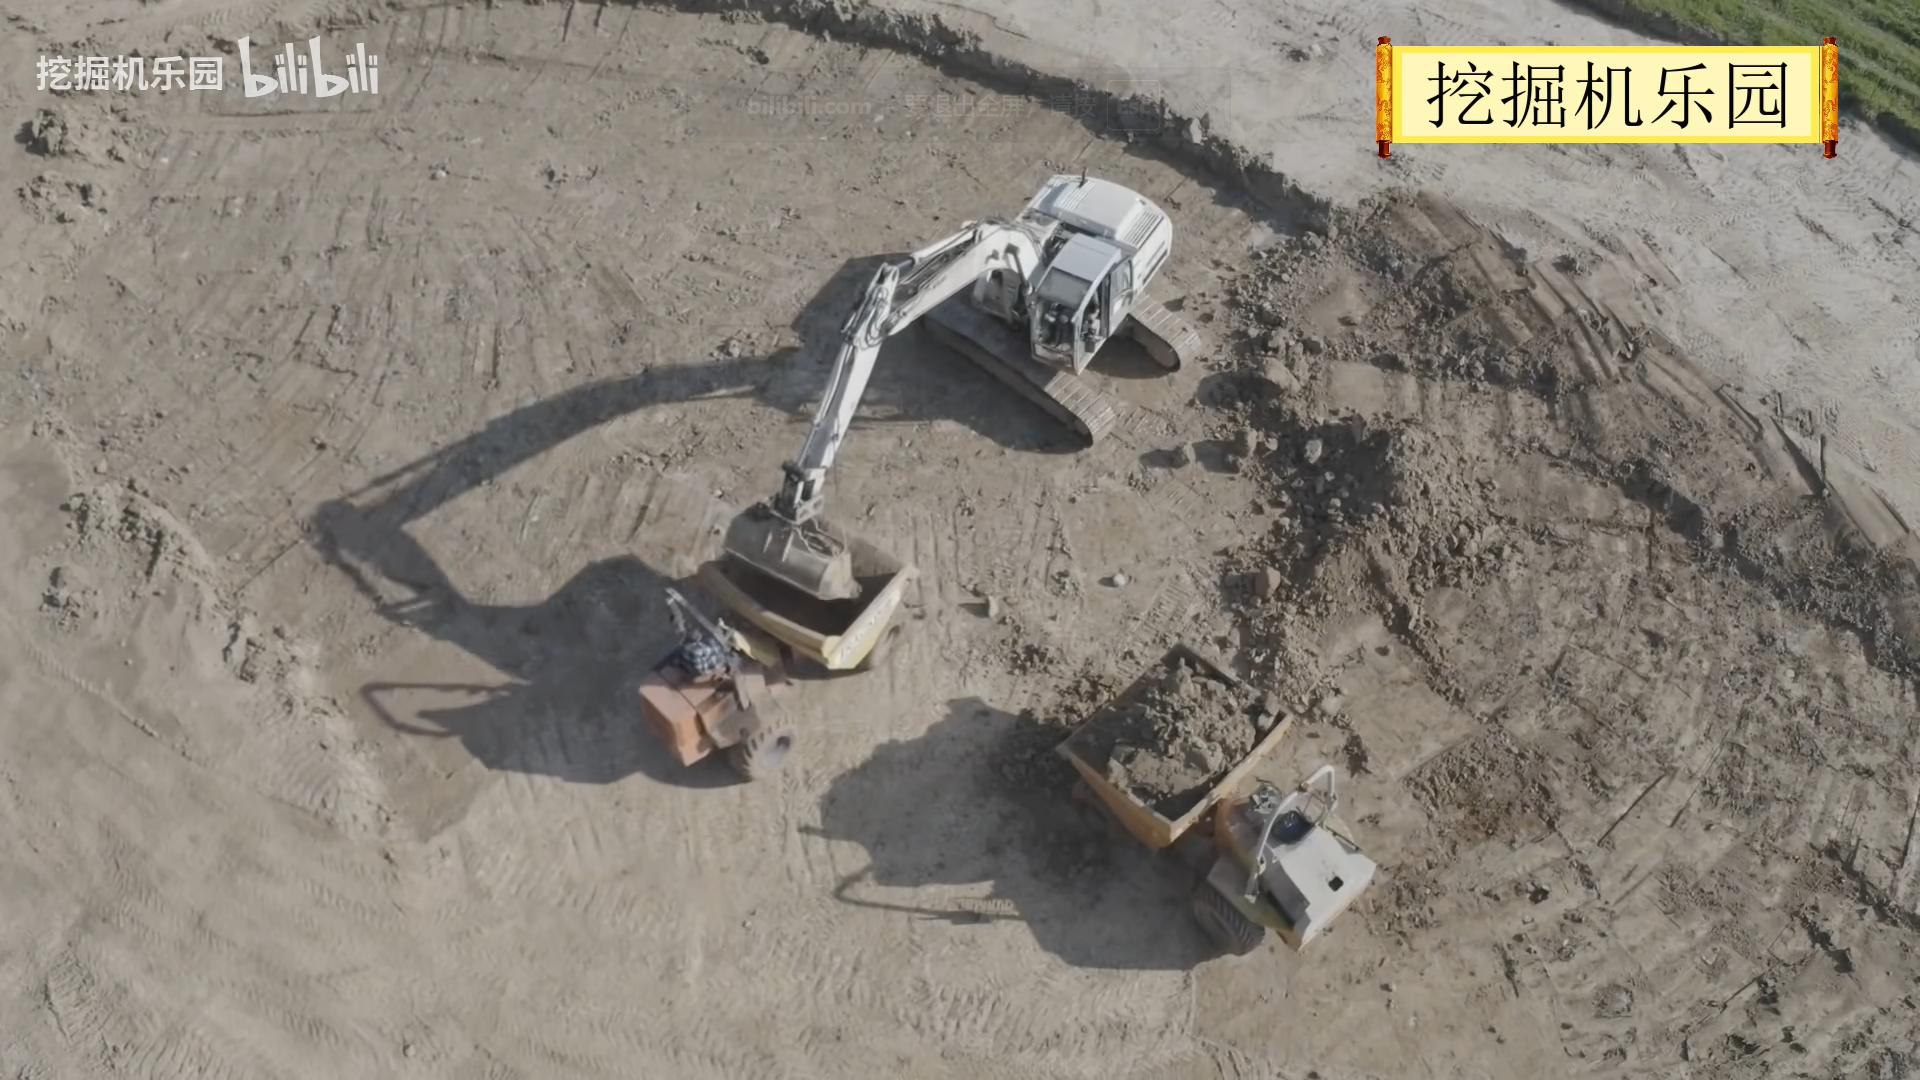excavator: (711, 153, 1232, 622)
